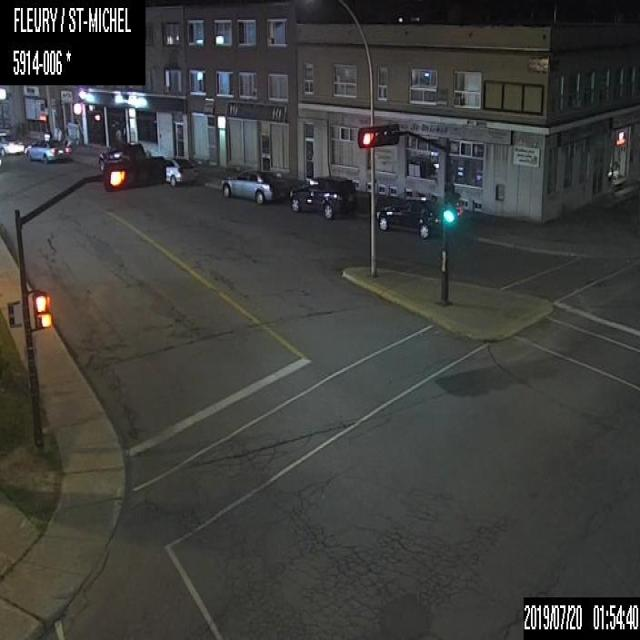vehicle: (286, 174, 356, 222), (376, 192, 441, 239), (216, 165, 284, 207), (96, 140, 146, 172), (26, 138, 72, 165), (164, 155, 201, 185), (0, 133, 25, 154)
